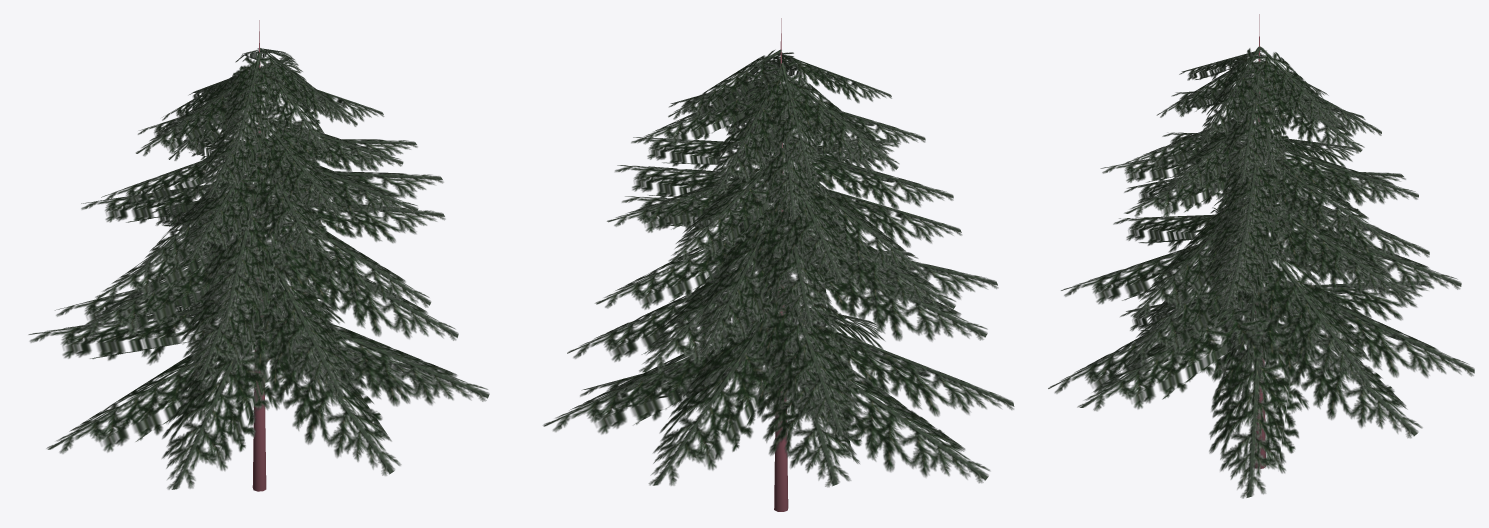
File: treepine4.glb
The picture shows the model from 3 angles, left to right: view 1: azimuth 30°, elevation 25°; view 2: azimuth 150°, elevation 25°; view 3: azimuth 270°, elevation 25°; orthographic projection. The views are drawn at different scales.
Visible parts, largest first — view 1: Branch, Trunk; view 2: Branch, Trunk; view 3: Branch.
Part boxes in pixels (bbox=[...]): Branch: bbox=[28, 48, 489, 489]; Trunk: bbox=[252, 20, 266, 491]; Branch: bbox=[543, 49, 1014, 487]; Trunk: bbox=[774, 18, 788, 511]; Branch: bbox=[1048, 46, 1474, 498].
Size of the model in its own units: 15.38 by 17.39 by 14.94.
Materials: 2 (1 with a texture image).
